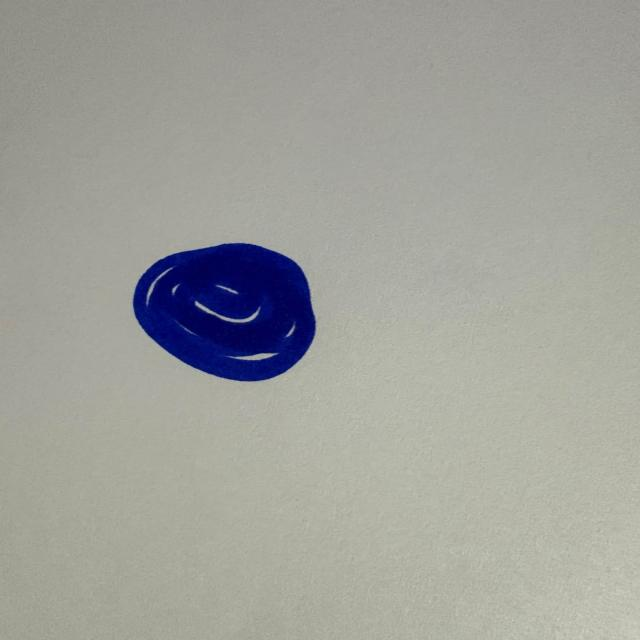Circle: (129, 240, 330, 386)
